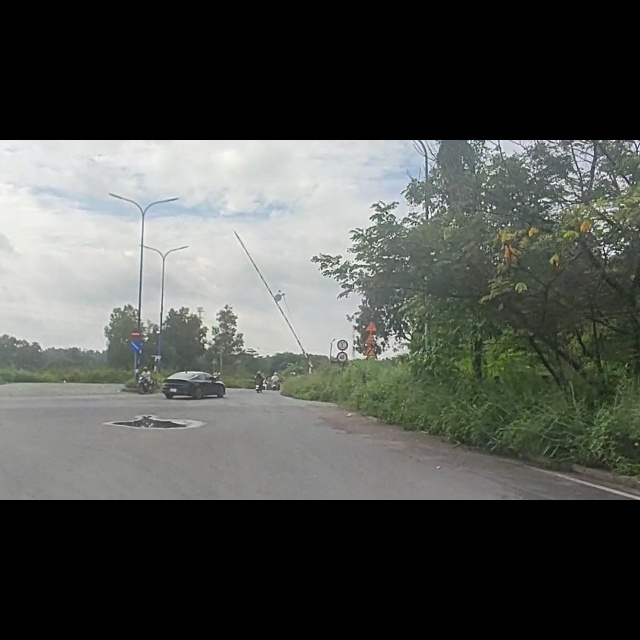bien_chi_dan: (128, 352, 145, 378), (334, 376, 351, 396), (365, 365, 379, 388), (131, 334, 143, 354)
